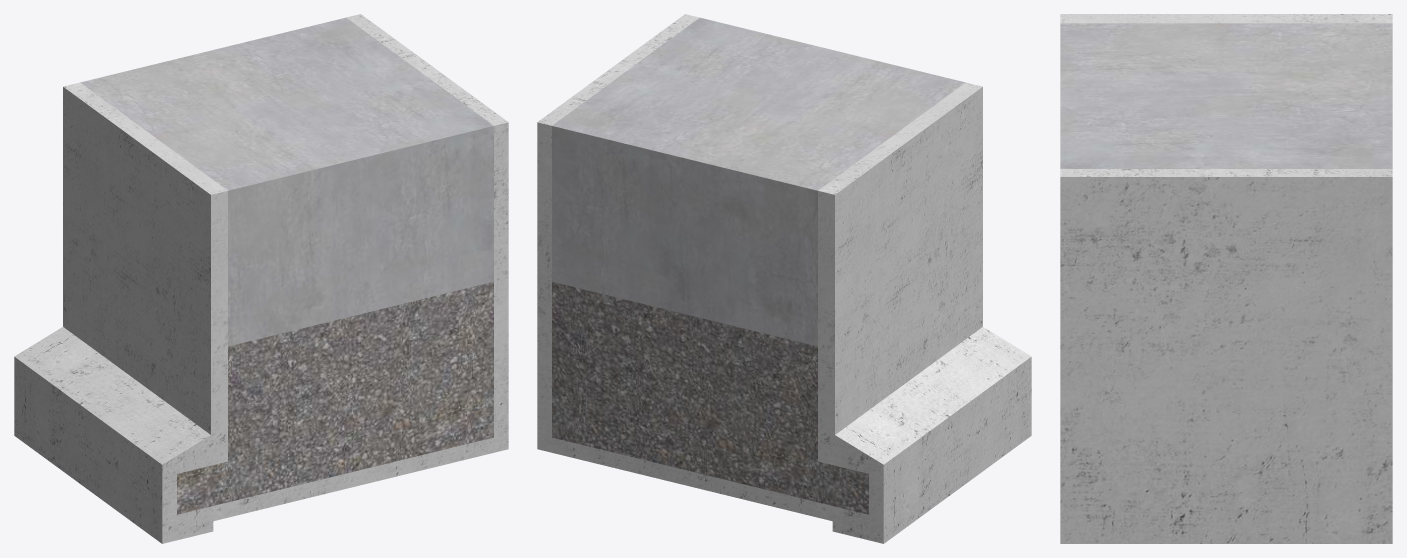
File: window-surround.glb
3 views of the same model, side by side, from view 1: azimuth 30°, elevation 25°; view 2: azimuth 150°, elevation 25°; view 3: azimuth 270°, elevation 25° (orthographic). The views are drawn at different scales.
Parts seen in each view (by area): view 1: 墙, 外围包覆层, 带窗套过梁; view 2: 墙, 外围包覆层, 带窗套过梁; view 3: 外围包覆层, 墙.
Boxes of the visible parts, x1,y1,x2,y2 form: 墙: [80, 17, 493, 346]; 外围包覆层: [14, 14, 508, 543]; 带窗套过梁: [177, 281, 493, 514]; 墙: [552, 17, 965, 346]; 外围包覆层: [537, 14, 1031, 543]; 带窗套过梁: [552, 281, 868, 514]; 外围包覆层: [1060, 14, 1392, 543]; 墙: [1060, 23, 1392, 168].
Bounding box in the file's own units: 0.4057 × 0.3771 × 0.3.
3 materials, 3 textured.
